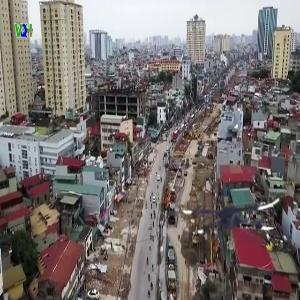drone: (185, 159, 283, 257)
